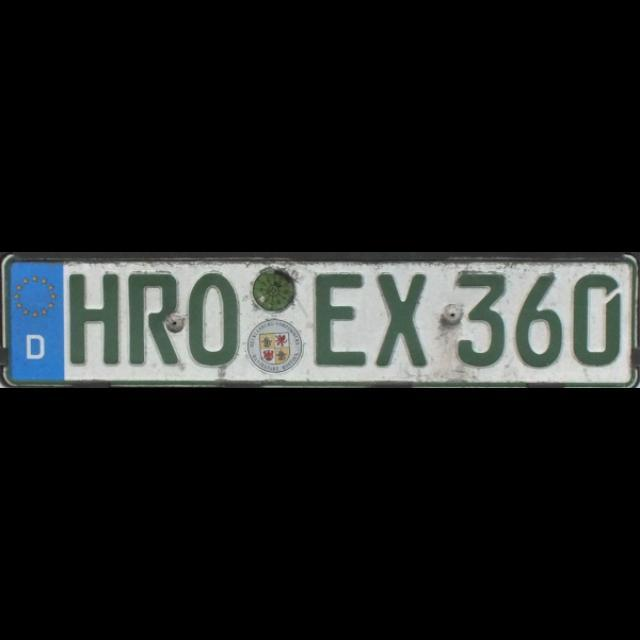license-plates: (1, 254, 640, 386)
